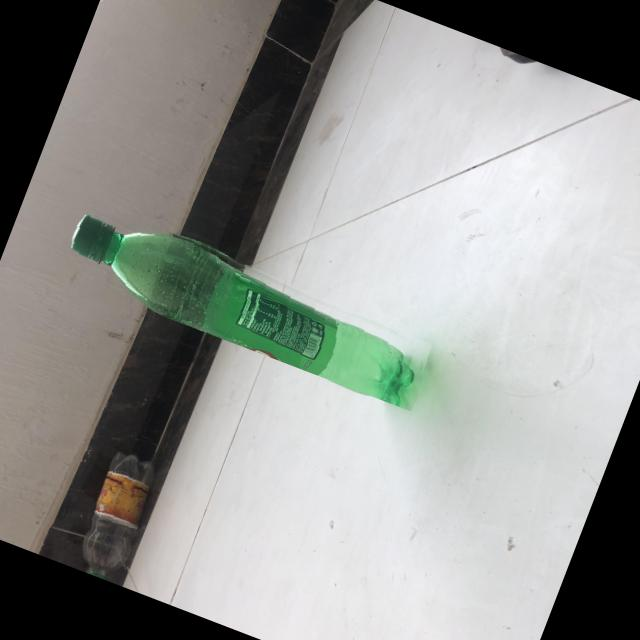plastic bottle: (59, 196, 444, 412), (68, 441, 168, 586)
